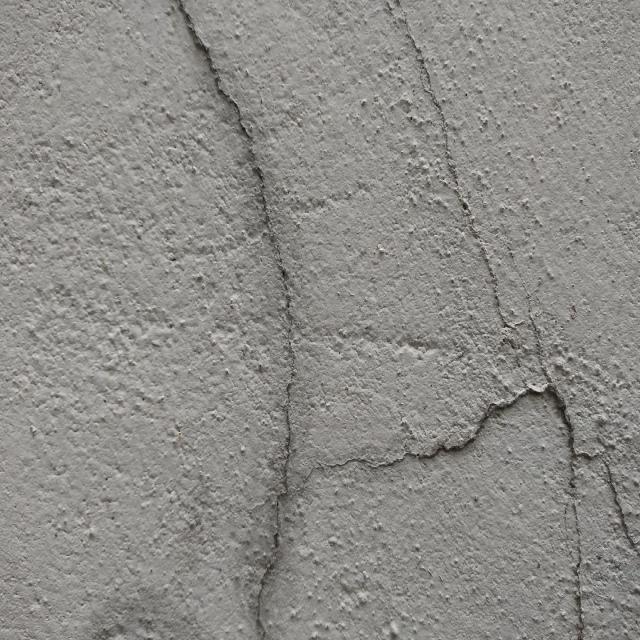SurfaceCrack: (143, 0, 341, 640), (346, 0, 617, 409)
